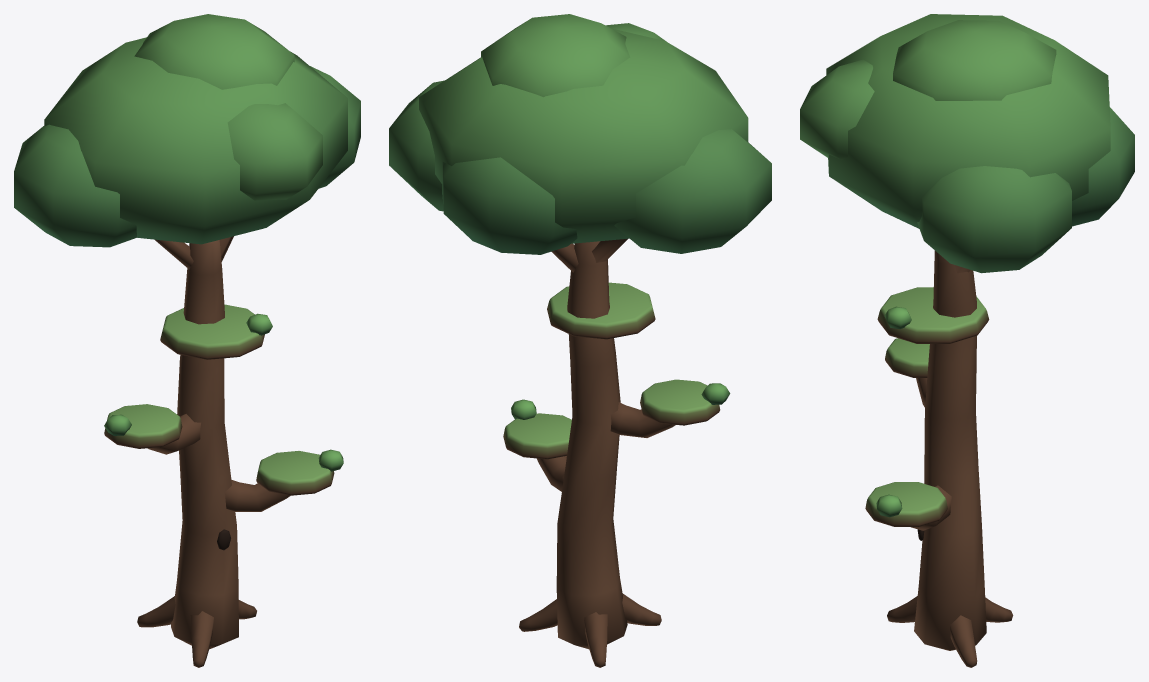
File: climb_tree.glb
3 renders of one model, left to right at view 1: azimuth 30°, elevation 25°; view 2: azimuth 150°, elevation 25°; view 3: azimuth 270°, elevation 25°, orthographic. The views are drawn at different scales.
Parts seen in each view (by area): view 1: canopy, climb_tree; view 2: canopy, climb_tree; view 3: canopy, climb_tree.
Boxes of the visible parts, x1,y1,x2,y2 form: canopy: (14, 14, 360, 247); climb_tree: (104, 236, 343, 667); canopy: (389, 14, 771, 254); climb_tree: (503, 238, 730, 667); canopy: (800, 14, 1134, 273); climb_tree: (865, 250, 1013, 667).
Size of the model in its own units: 3.32 by 5.73 by 2.76.
